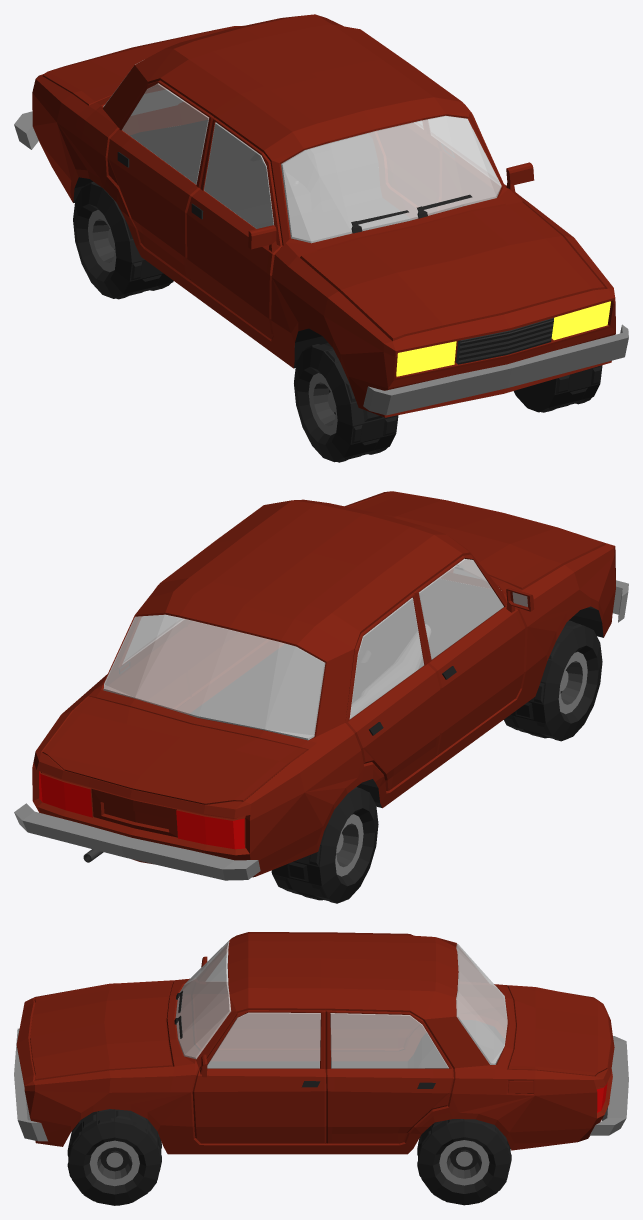
The model's file is RED.glb.
The picture shows the model from 3 angles, top to bottom: view 1: azimuth 30°, elevation 25°; view 2: azimuth 150°, elevation 25°; view 3: azimuth 270°, elevation 25°; orthographic projection. The views are drawn at different scales.
Visible parts, largest first — view 1: Car.001; view 2: Car.001; view 3: Car.001.
Boxes of the visible parts, x1=… form: Car.001: x1=14, y1=14, x2=628, y2=462; Car.001: x1=14, y1=491, x2=628, y2=903; Car.001: x1=14, y1=932, x2=628, y2=1205.
Bounding box in the file's own units: 1.79 × 1.54 × 4.29.
Materials: 4 (1 with a texture image).
